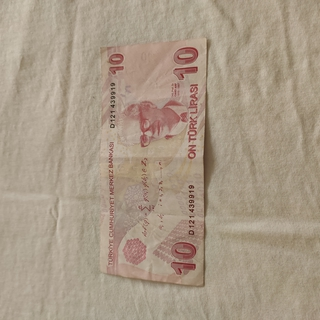10TLBack: (97, 37, 208, 287)
